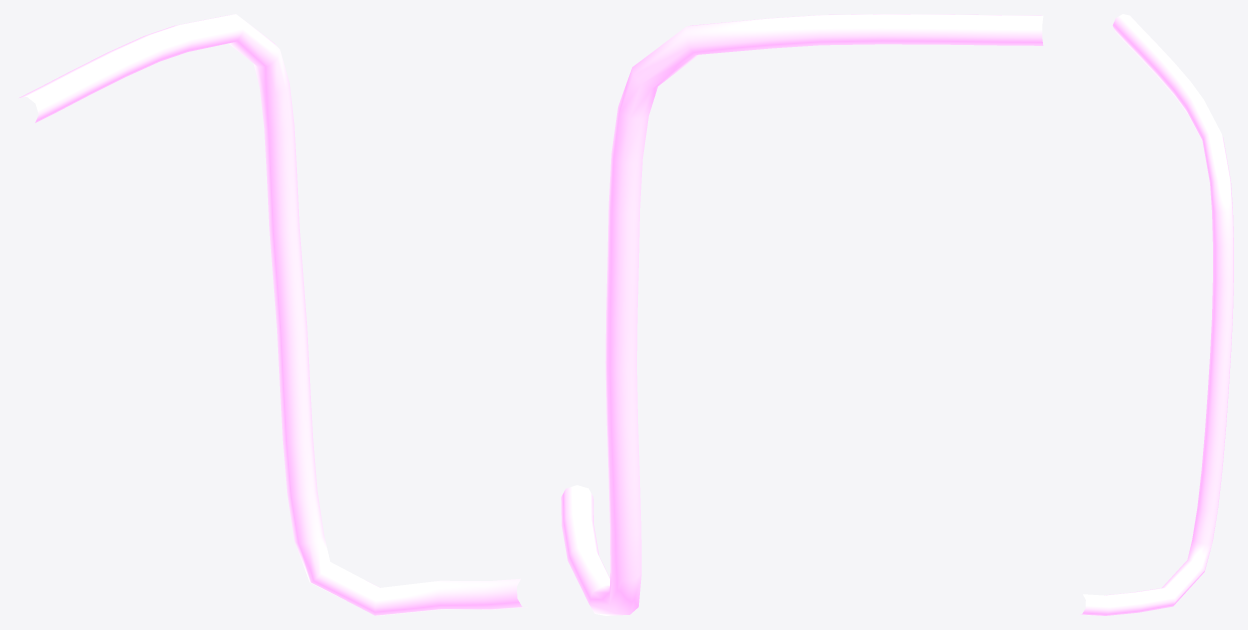
Rendered from SM_TD2_Cable_D2_D3_Lit.gltf.
3 views of the same model, side by side, from view 1: azimuth 30°, elevation 25°; view 2: azimuth 150°, elevation 25°; view 3: azimuth 270°, elevation 25° (orthographic). The views are drawn at different scales.
Visible parts, largest first — view 1: SM_TD2_Cable_D2_D3_Lit; view 2: SM_TD2_Cable_D2_D3_Lit; view 3: SM_TD2_Cable_D2_D3_Lit.
Boxes of the visible parts, bbox=[...] form: SM_TD2_Cable_D2_D3_Lit: bbox=[19, 14, 527, 615]; SM_TD2_Cable_D2_D3_Lit: bbox=[561, 14, 1043, 615]; SM_TD2_Cable_D2_D3_Lit: bbox=[1079, 14, 1233, 615].
Size of the model in its own units: 0.6627 by 0.828 by 0.2617.
